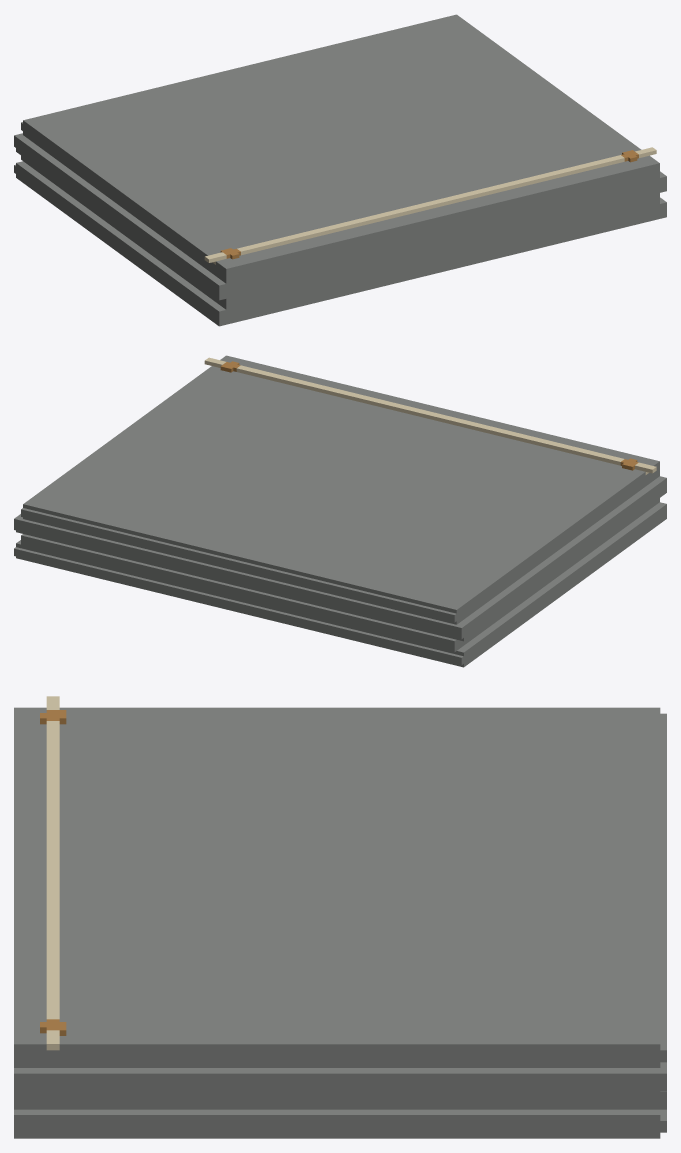
The model's file is welding_blanket.glb.
3 renders of one model, top to bottom at view 1: azimuth 30°, elevation 25°; view 2: azimuth 150°, elevation 25°; view 3: azimuth 270°, elevation 25°, orthographic. The views are drawn at different scales.
Parts seen in each view (by area): view 1: welding_blanket:compound; view 2: welding_blanket:compound; view 3: welding_blanket:compound.
Part boxes in pixels (box(x1,y1,x2,y2)): welding_blanket:compound: box(14, 14, 666, 326); welding_blanket:compound: box(14, 355, 666, 667); welding_blanket:compound: box(14, 696, 666, 1138).
Size of the model in its own units: 0.504 by 0.064 by 0.4.
